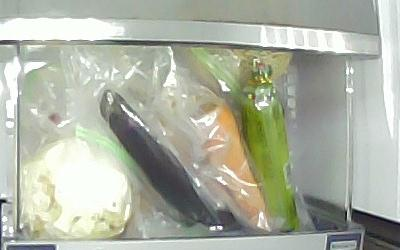cabbage_vinyl: (21, 136, 133, 239)
carrot_vinyl: (189, 101, 266, 221)
eggplant_vinyl: (98, 87, 241, 233)
zucchini: (237, 96, 299, 232)
